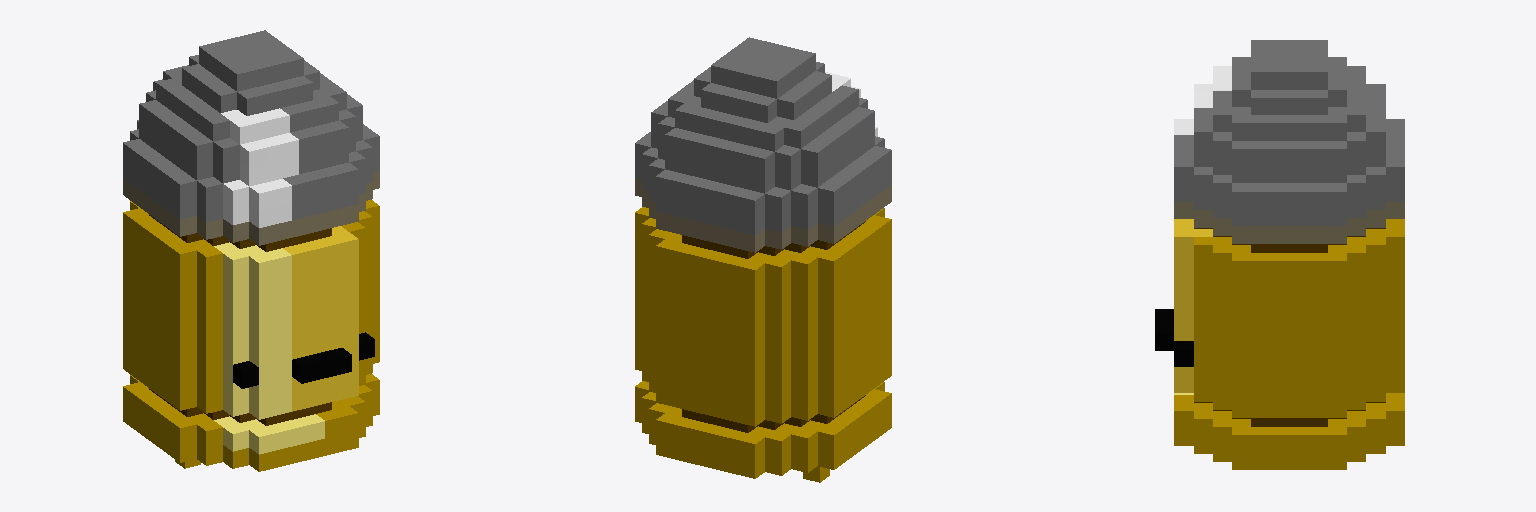
3 renders of one model, left to right at view 1: azimuth 30°, elevation 25°; view 2: azimuth 150°, elevation 25°; view 3: azimuth 270°, elevation 25°, orthographic.
Visible parts, largest first — view 1: object 1; view 2: object 1; view 3: object 1.
Part boxes in pixels (left/top/right/bottom): object 1: left=123, top=30, right=379, bottom=471; object 1: left=635, top=37, right=891, bottom=482; object 1: left=1155, top=40, right=1404, bottom=469.
Bounding box in the file's own units: 1.2 × 2.3 × 1.3.
1 materials, 1 textured.